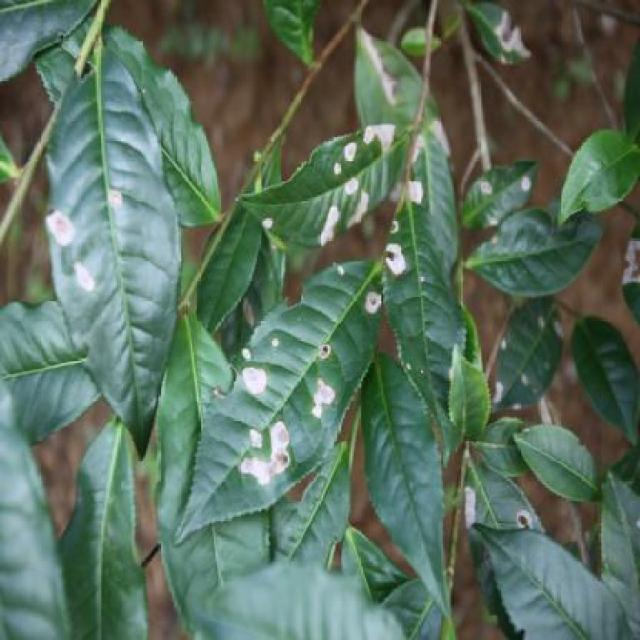Leaf rust of tea: (155, 265, 391, 503), (252, 115, 417, 252), (384, 194, 464, 452)
